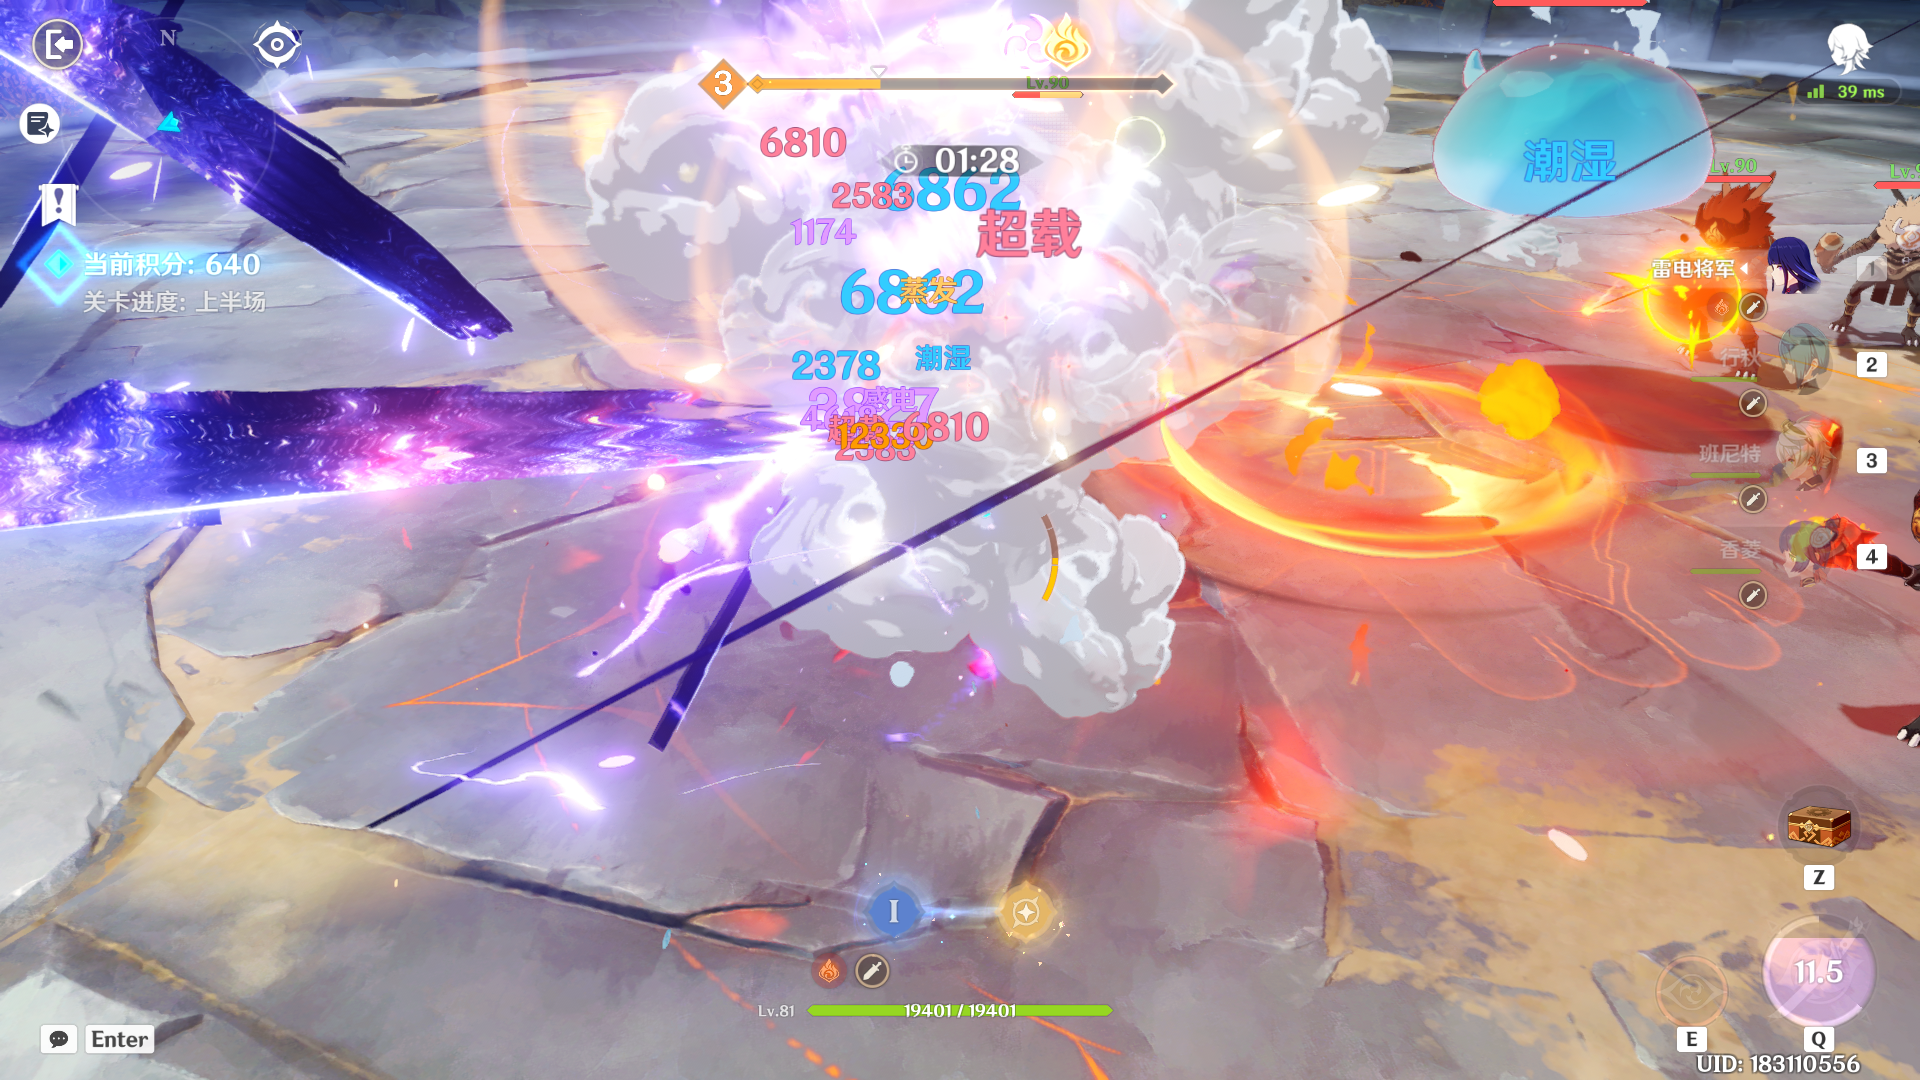hili: (1662, 164, 1805, 405), (1812, 164, 1920, 389)
